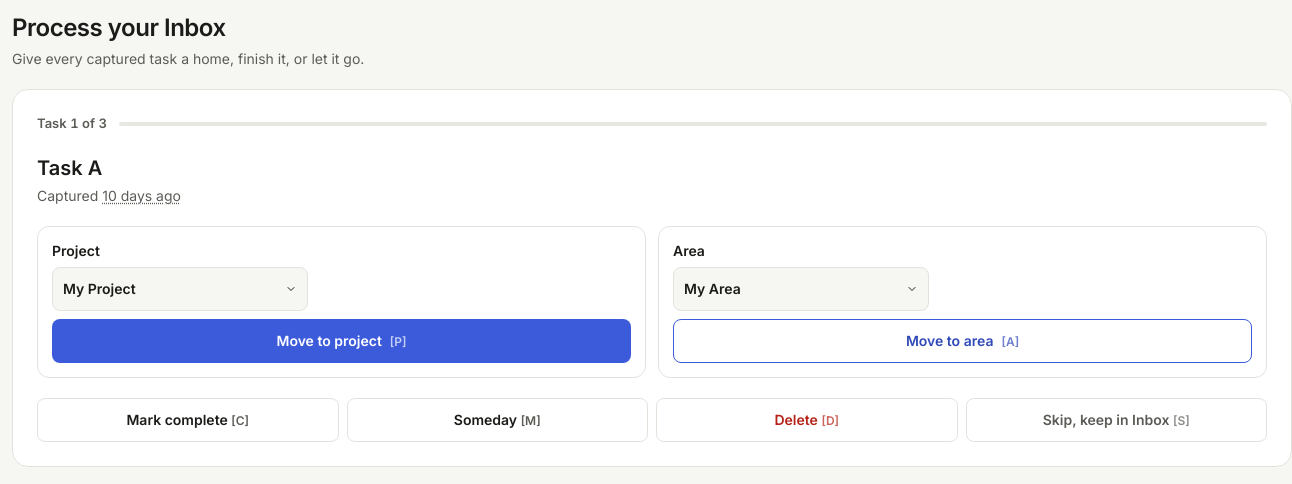
Test: InboxStep — Skip bug fix (single source of truth) › Skip advances the counter from Task 1 to Task 2
Expected: the text "Task 1 of 3" is shown, [37,114,107,134]
What coordinates should you click on to do the following:
click the button "Skip, keep in Inbox [S]"
I would click on:
 (1116, 420)
Its box is [966,398,1267,442].
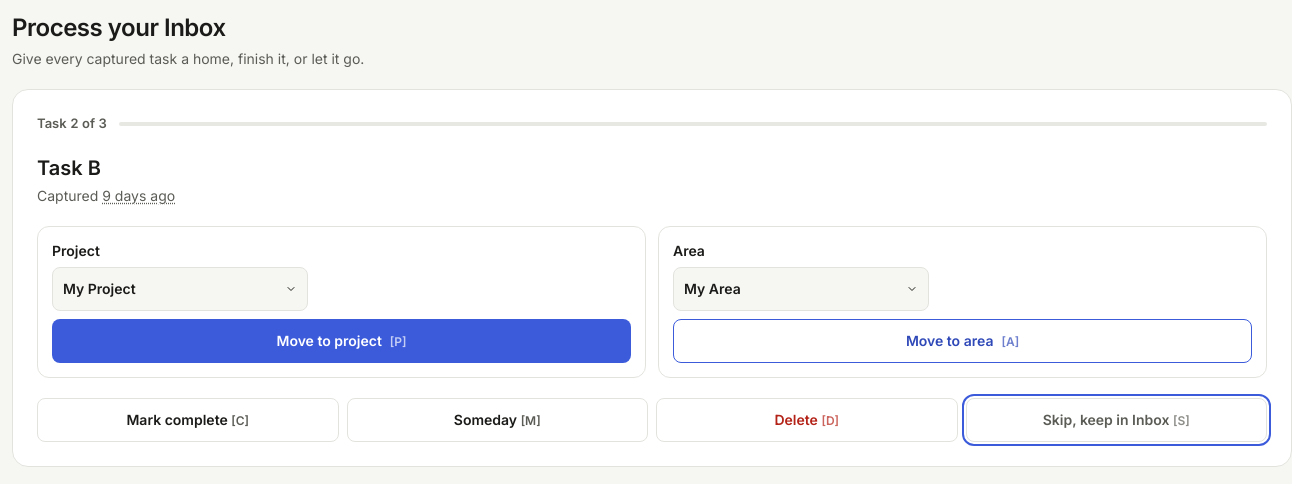
Result: the text "Task 2 of 3" is shown at [37,114,107,134]
